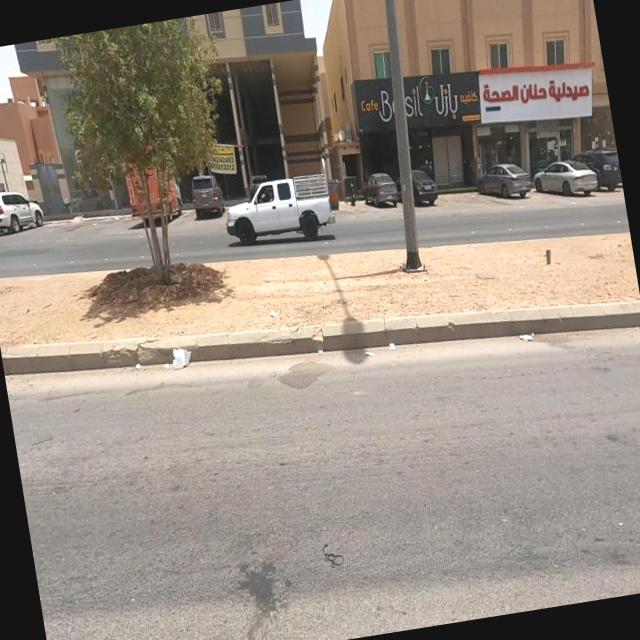debris: (144, 322, 216, 396), (488, 294, 552, 374), (250, 282, 292, 342)
